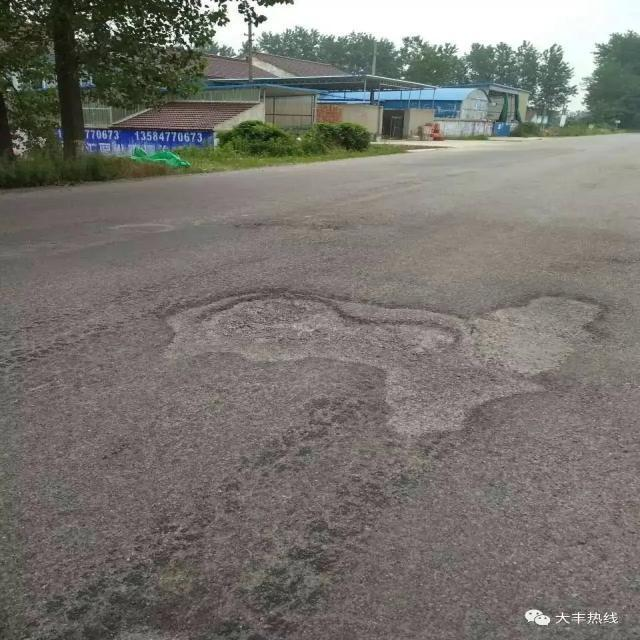Buraco: (152, 284, 614, 444)
